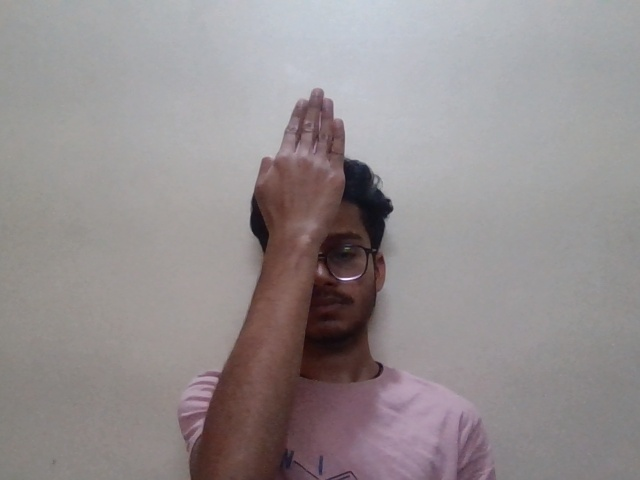good-bye: (247, 86, 370, 290)
